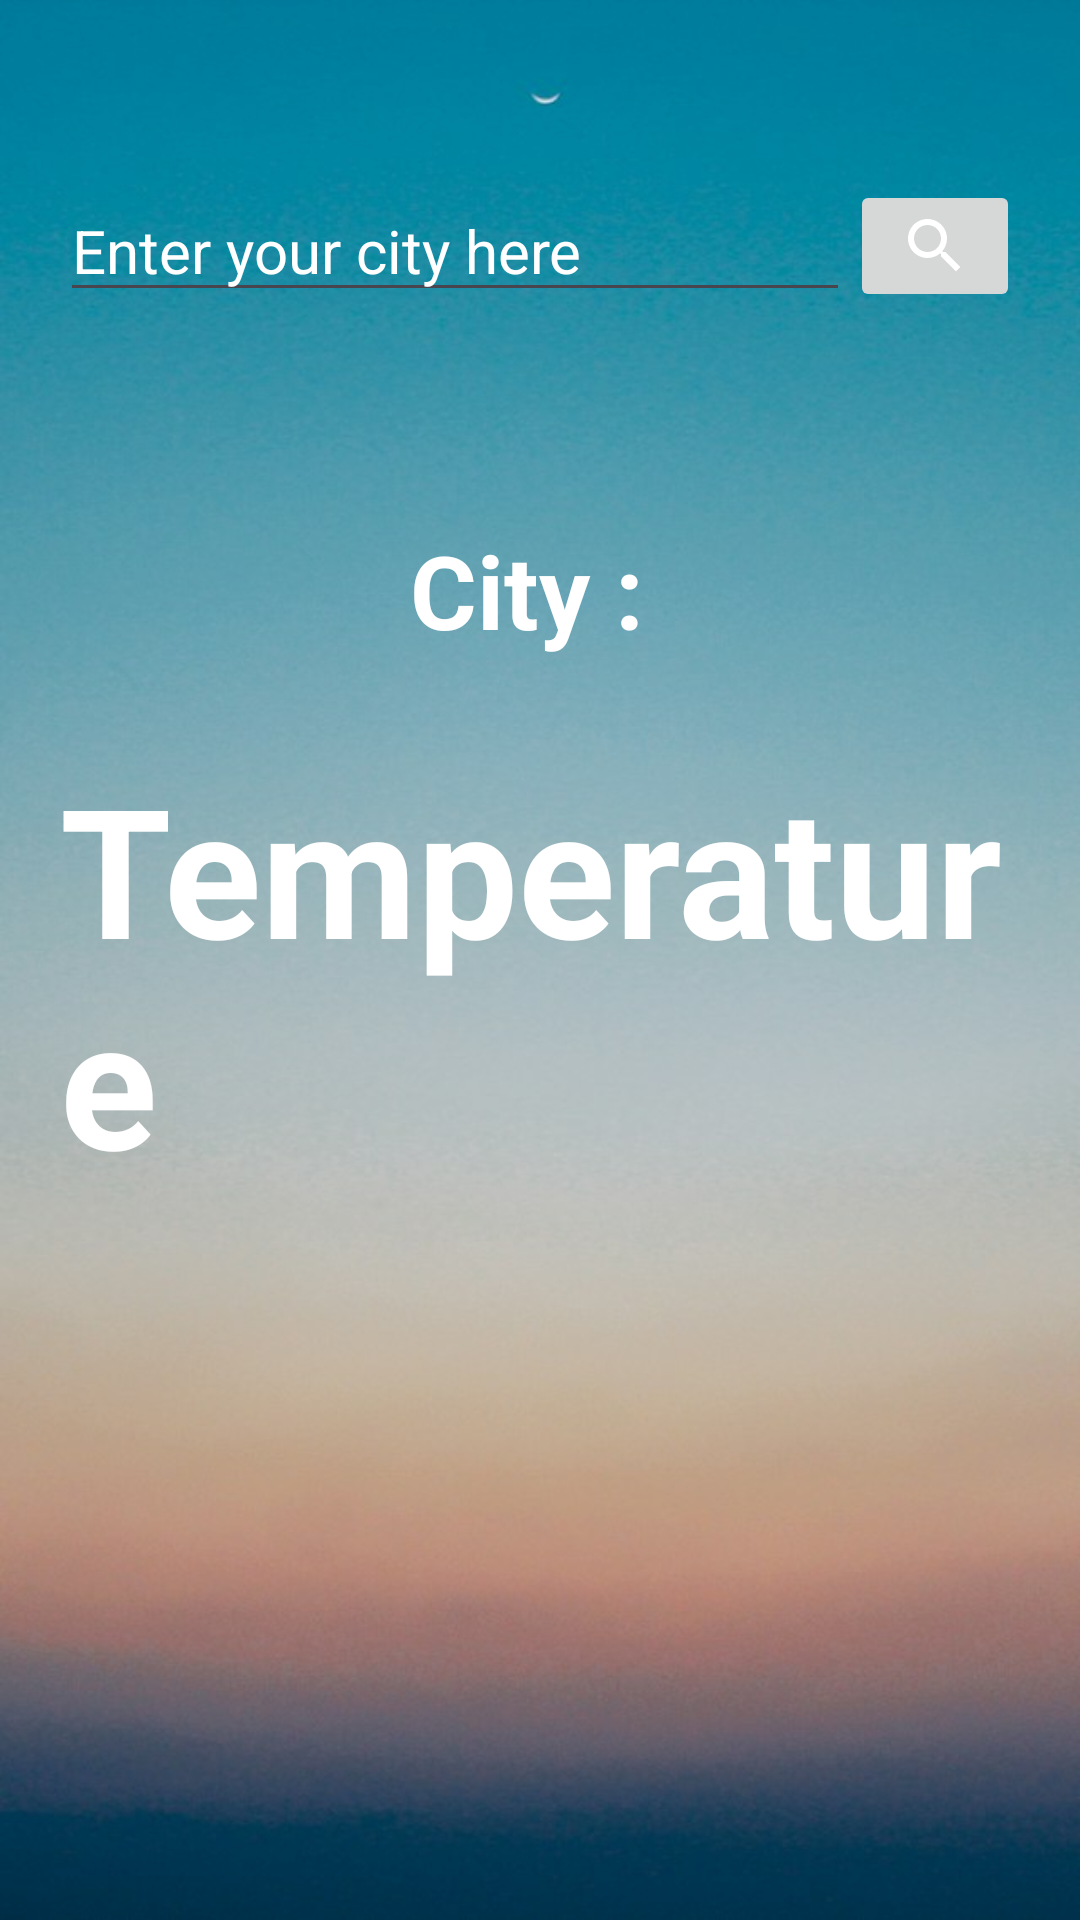

Screen size 1080*1920. Icon name, then its box in pixels as [x1, y1, x2, y2]:
search: [850, 198, 1020, 312]
